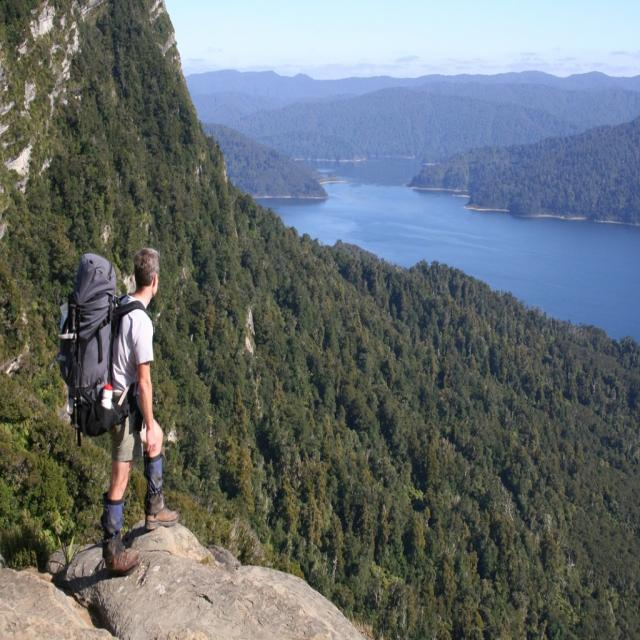backpack: (58, 248, 150, 434)
